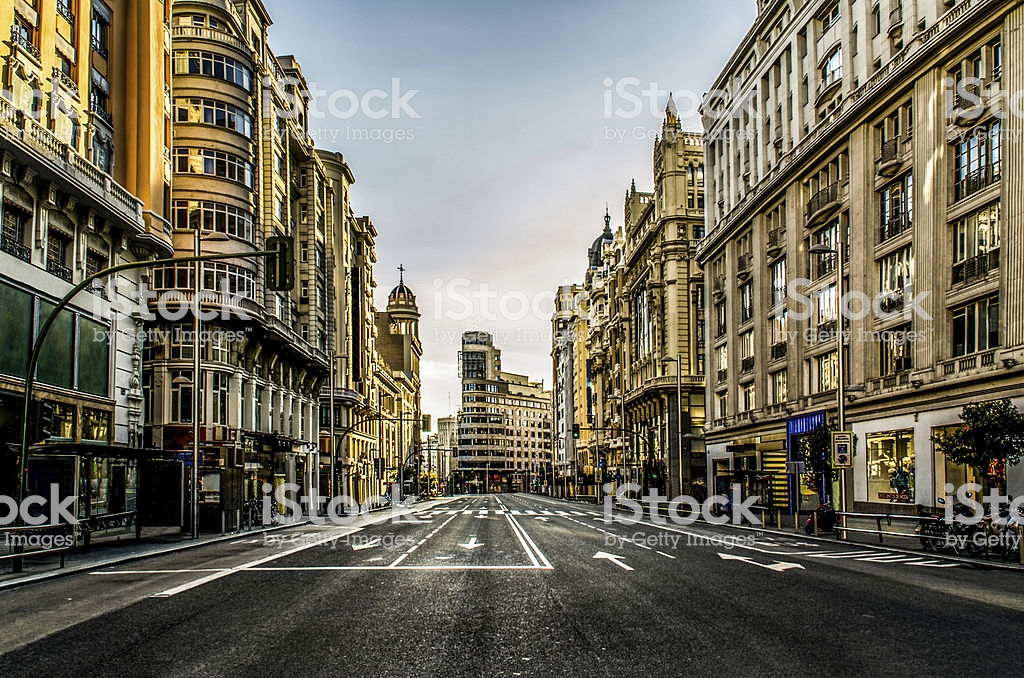strada: (31, 535, 1024, 674)
striscie pedonali: (413, 506, 627, 515)
